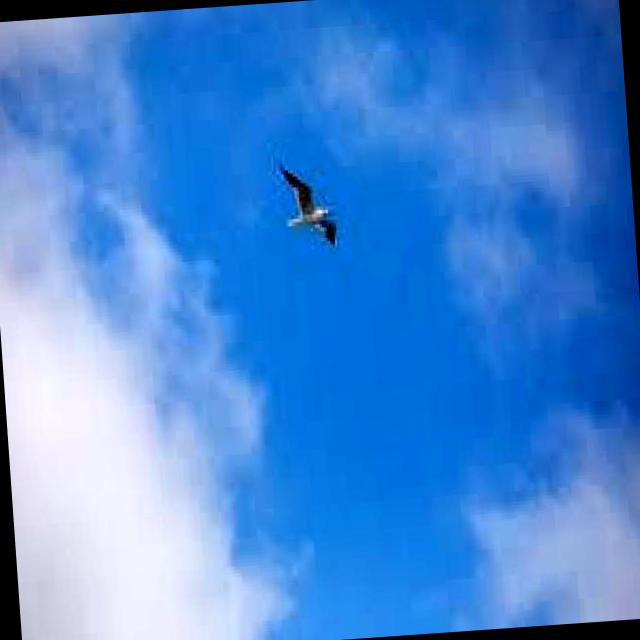bird: (271, 154, 344, 256)
